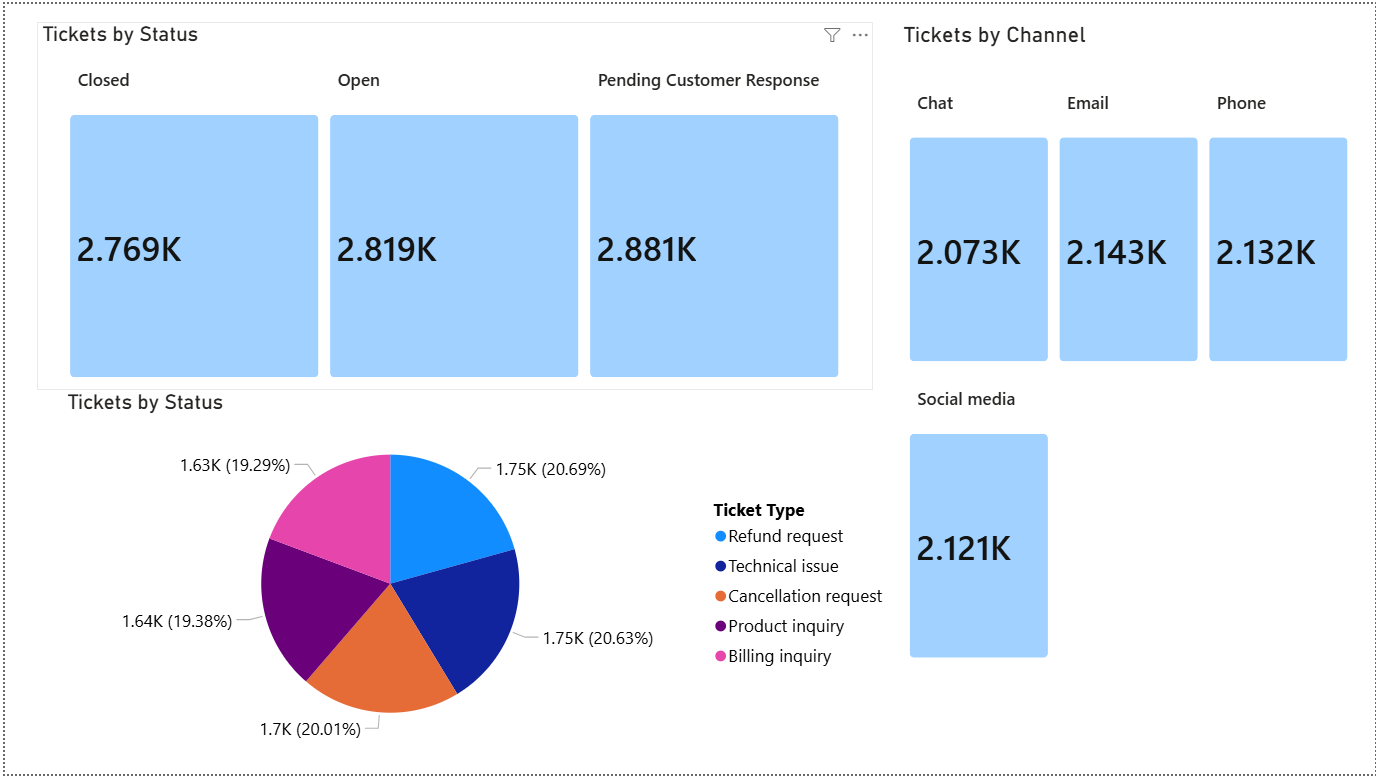

This screenshot's page, from the dashboard's own definition file:
{"tool":"powerbi","page":{"name":"Operational Metrics","canvas":[1280,720],"ordinal":1},"visuals":[{"type":"cardVisual","title":"Tickets by Channel","fields":{"Data":["CountNonNull(customer_support_tickets.Ticket ID)"],"Rows":["customer_support_tickets.Ticket Channel"]},"box":[834.5,17.3,434,625],"z":0},{"type":"cardVisual","title":"Tickets by Status","fields":{"Data":["CountNonNull(customer_support_tickets.Ticket ID)"],"Rows":["customer_support_tickets.Ticket Status"]},"box":[29.9,17.3,781.6,343],"z":1000},{"type":"pieChart","title":"Tickets by Status","fields":{"Y":["CountNonNull(customer_support_tickets.Ticket ID)"],"Category":["customer_support_tickets.Ticket Type"]},"box":[52.9,360.3,781.6,343],"z":2000}]}

Visuals, with their boxes in screenshot pixels (x1, y1, x2, y2), scaled from the page's 1280x720 canvas onto the 1376x778 screenshot:
"Tickets by Channel" cardVisual: (left=897, top=19, right=1364, bottom=694)
"Tickets by Status" cardVisual: (left=32, top=19, right=872, bottom=389)
"Tickets by Status" pieChart: (left=57, top=389, right=897, bottom=760)
